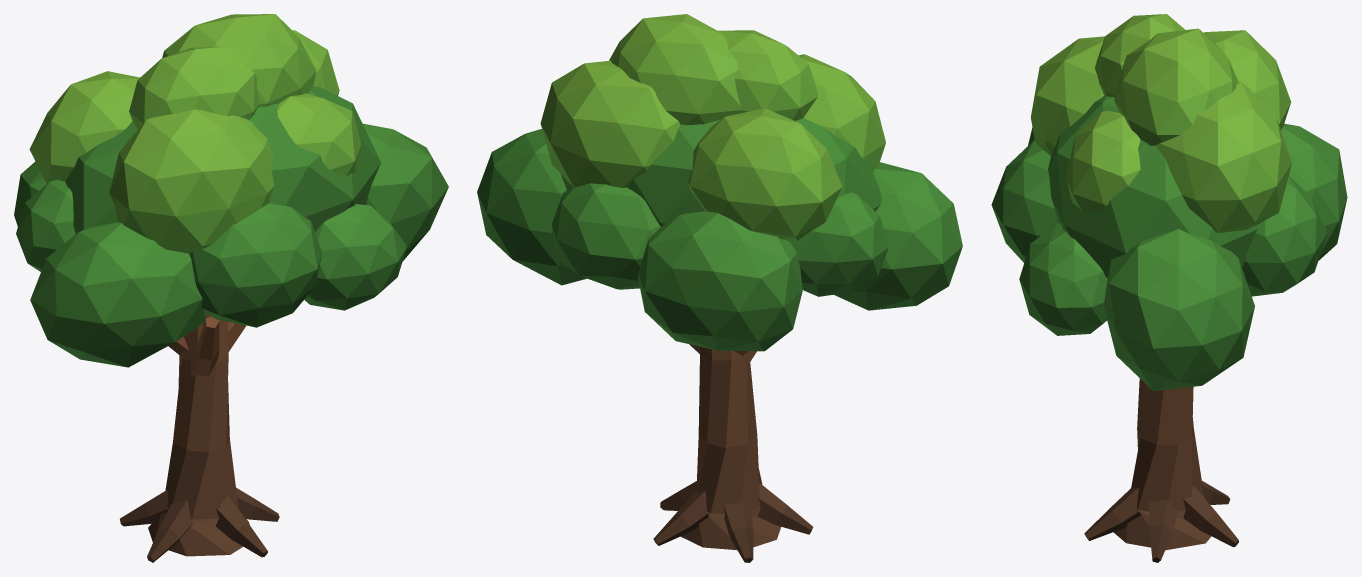
File: tree_oak.fbx
3 renders of one model, left to right at view 1: azimuth 30°, elevation 25°; view 2: azimuth 150°, elevation 25°; view 3: azimuth 270°, elevation 25°, orthographic. The views are drawn at different scales.
Visible parts, largest first — view 1: tree_oak; view 2: tree_oak; view 3: tree_oak.
Boxes of the visible parts, x1=… form: tree_oak: x1=14, y1=14, x2=448, y2=562; tree_oak: x1=477, y1=14, x2=962, y2=562; tree_oak: x1=991, y1=14, x2=1347, y2=562.
Size of the model in its own units: 11.45 by 12.7 by 7.99.
